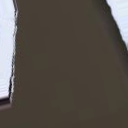crackTip: (10, 1, 128, 102)
